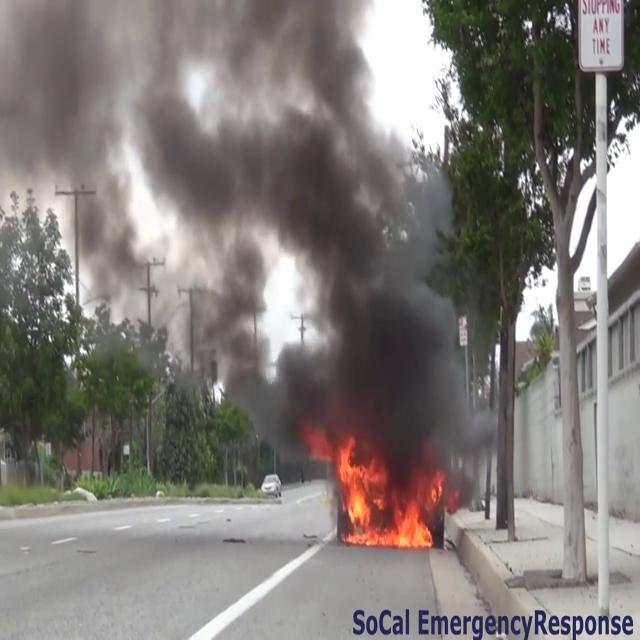Fire: (330, 440, 436, 551)
Smoke: (0, 0, 478, 456)
